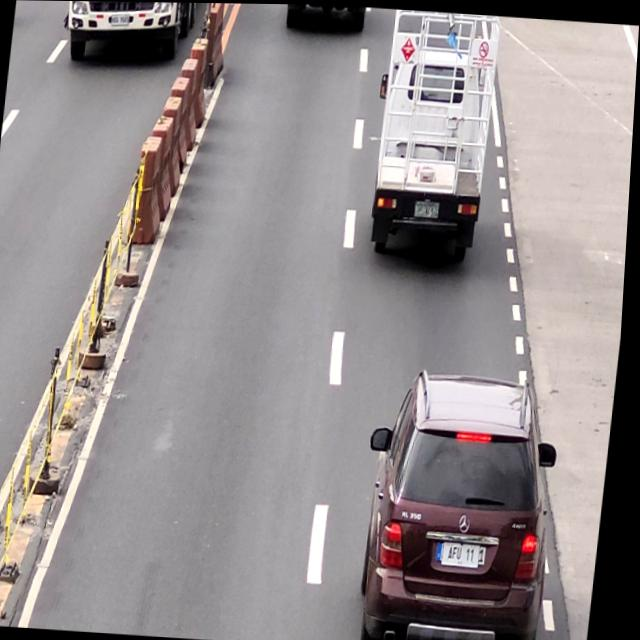Car: (355, 366, 572, 640)
License-Plate: (448, 542, 487, 566), (416, 200, 442, 218)
Truck: (363, 7, 503, 266)
